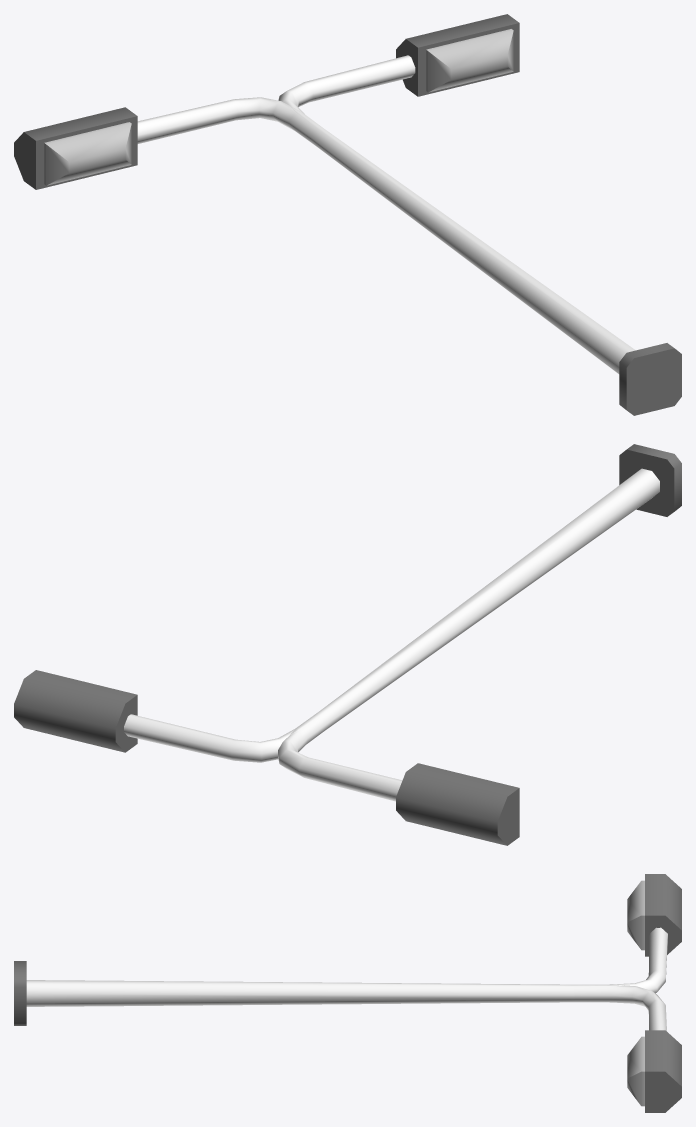
The model's file is P_Light02.fbx.
3 views of the same model, one above another, from view 1: azimuth 30°, elevation 25°; view 2: azimuth 150°, elevation 25°; view 3: azimuth 270°, elevation 25° (orthographic). The views are drawn at different scales.
Visible parts, largest first — view 1: streetlamp02; view 2: streetlamp02; view 3: streetlamp02.
Part boxes in pixels (box(x1,y1,x2,y2)): streetlamp02: box(14, 14, 681, 415); streetlamp02: box(14, 444, 681, 845); streetlamp02: box(14, 874, 681, 1112).
Size of the model in its own units: 423 by 48.23 by 603.
